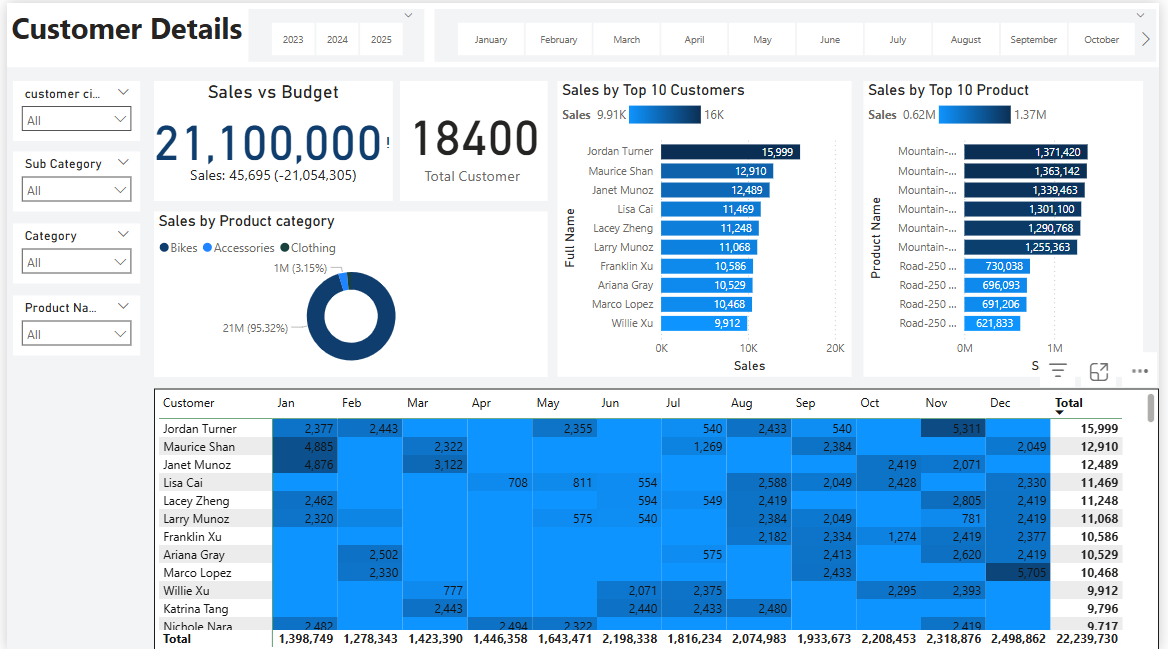

The dashboard page shown, as its layout file describes it:
{"tool":"powerbi","page":{"name":"Customer Details","canvas":[1280,720],"ordinal":1},"visuals":[{"type":"textbox","box":[0,0,1280.1,71.6],"z":0},{"type":"slicer","fields":{"Values":["Dim_Customer.customer city"]},"box":[6.5,86.2,141.5,66.7],"z":1000},{"type":"slicer","fields":{"Values":["DIM_Product.Sub Category"]},"box":[6.5,164.3,141.5,66.7],"z":2000},{"type":"slicer","fields":{"Values":["DIM_Product.Product category"]},"box":[6.5,245.6,141.5,66.7],"z":3000},{"type":"slicer","fields":{"Values":["DIM_Product.Product Name"]},"box":[6.5,325.3,141.5,66.7],"z":4000},{"type":"slicer","fields":{"Values":["Dim_calender.Year"]},"box":[268.4,6.5,195.2,58.6],"z":5000},{"type":"slicer","fields":{"Values":["Dim_calender.month"]},"box":[475,6.5,801.9,58.6],"z":6000},{"type":"kpi","title":"Sales vs Budget ","fields":{"TrendLine":["Dim_calender.Year"],"Indicator":["Key Measures.Budget Amount"],"Goal":["Key Measures.Sales"]},"box":[162.7,86.2,265.1,133.4],"z":7000},{"type":"donutChart","fields":{"Y":["Key Measures.Sales"],"Category":["DIM_Product.Product category"]},"box":[162.7,231,437.5,183.8],"z":8000},{"type":"barChart","title":"Sales by Top 10 Customers ","fields":{"Y":["Key Measures.Sales"],"Category":["Dim_Customer.Full Name"]},"box":[611.6,86.2,326.9,328.6],"z":9000},{"type":"barChart","title":"Sales by Top 10 Product ","fields":{"Y":["Key Measures.Sales"],"Category":["DIM_Product.Product Name"]},"box":[951.5,86.2,310.7,328.6],"z":10000},{"type":"pivotTable","fields":{"Rows":["Dim_Customer.Full Name"],"Values":["Key Measures.Sales"],"Columns":["Dim_calender.Monthshort"]},"box":[163.3,428.3,1117.3,292.2],"z":11000},{"type":"card","fields":{"Values":["Dim_Customer.Full Name"]},"box":[435.9,86.2,164.3,133.4],"z":12000}]}

Visuals, with their boxes in screenshot pixels (x1, y1, x2, y2), scaled from the page's 1280x720 canvas onto the 1168x649 screenshot:
textbox: BBox(0, 0, 1167, 65)
slicer - Dim_Customer.customer city: BBox(6, 78, 135, 138)
slicer - DIM_Product.Sub Category: BBox(6, 148, 135, 208)
slicer - DIM_Product.Product category: BBox(6, 221, 135, 282)
slicer - DIM_Product.Product Name: BBox(6, 293, 135, 353)
slicer - Dim_calender.Year: BBox(245, 6, 423, 59)
slicer - Dim_calender.month: BBox(433, 6, 1165, 59)
"Sales vs Budget " kpi: BBox(148, 78, 390, 198)
donutChart - Key Measures.Sales x DIM_Product.Product category: BBox(148, 208, 548, 374)
"Sales by Top 10 Customers " barChart: BBox(558, 78, 856, 374)
"Sales by Top 10 Product " barChart: BBox(868, 78, 1152, 374)
pivotTable - Dim_Customer.Full Name x Key Measures.Sales: BBox(149, 386, 1167, 648)
card - Dim_Customer.Full Name: BBox(398, 78, 548, 198)
